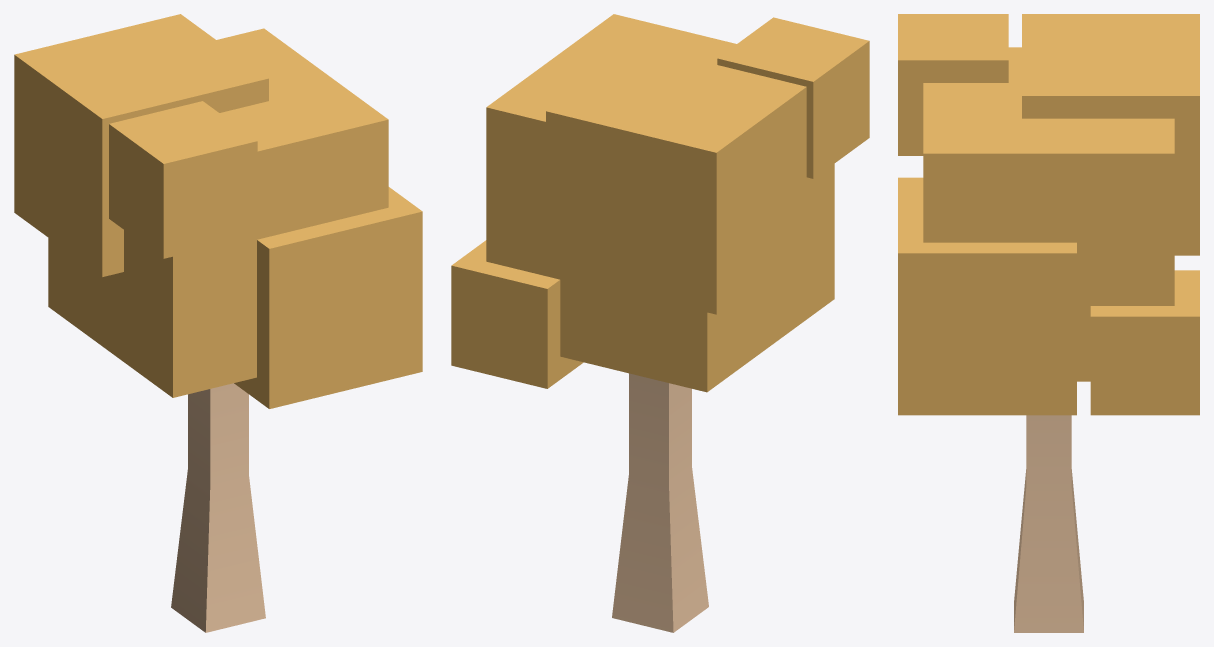
Rendered from tree_blocks_fall.glb.
3 renders of one model, left to right at view 1: azimuth 30°, elevation 25°; view 2: azimuth 150°, elevation 25°; view 3: azimuth 270°, elevation 25°, orthographic. The views are drawn at different scales.
Visible parts, largest first — view 1: tree_blocks_fall; view 2: tree_blocks_fall; view 3: tree_blocks_fall.
Part boxes in pixels (x1,y1,x2,y2): tree_blocks_fall: [14, 14, 422, 632]; tree_blocks_fall: [451, 14, 869, 632]; tree_blocks_fall: [898, 14, 1199, 632].
Size of the model in its own units: 0.6 by 1.18 by 0.6.
